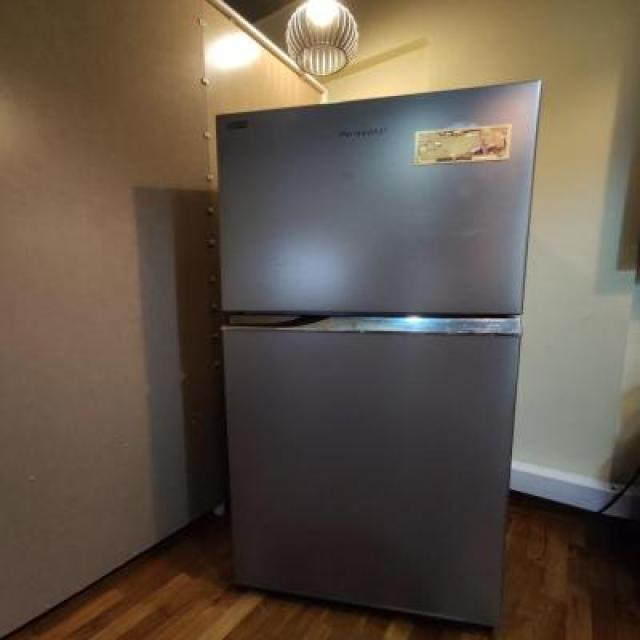refrigerator: (218, 78, 548, 634)
